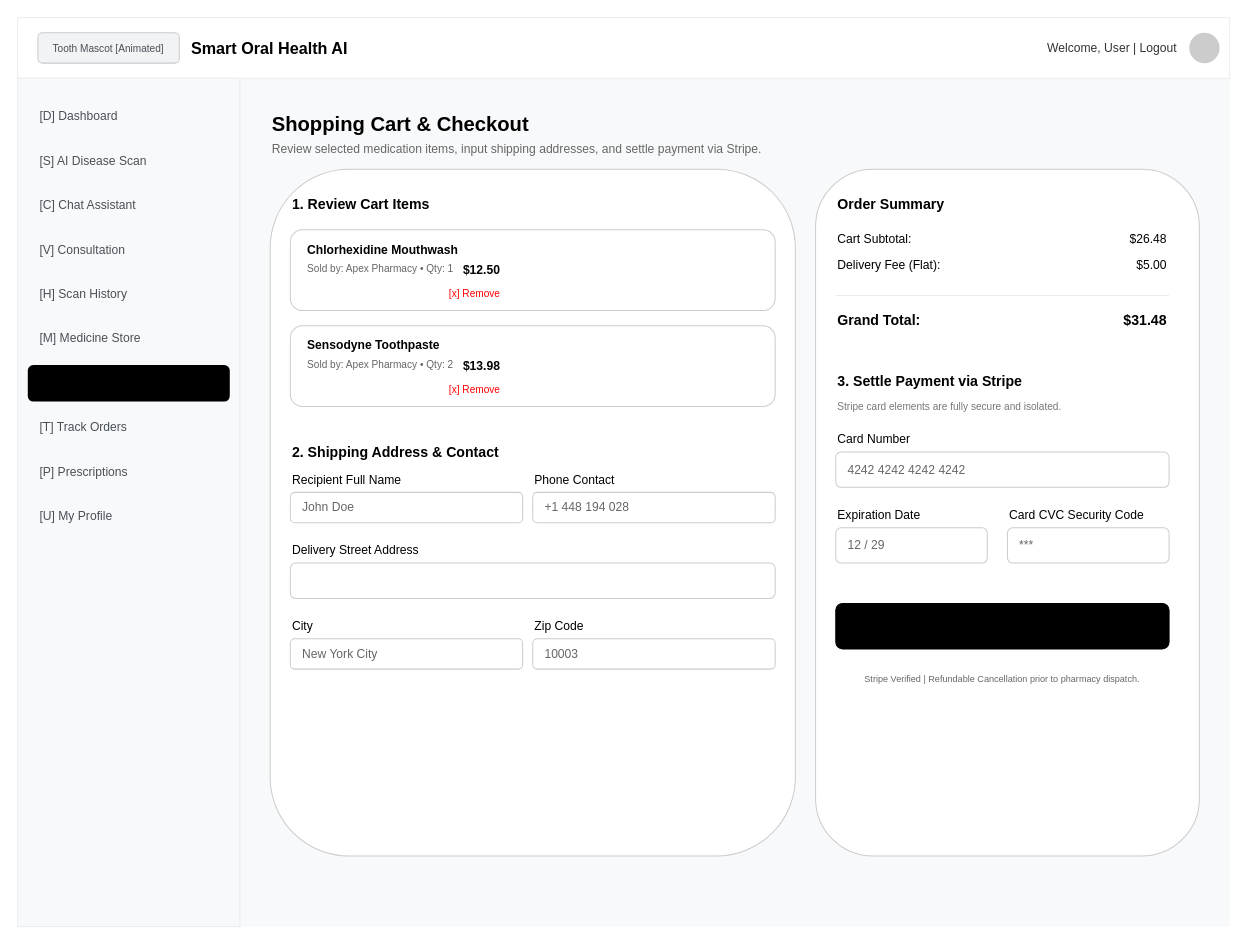
Image size: 1247x944. Some labels were removed from this diagram. Each missing label, with the box of its shape:
72 Broadway, New York, NY: (289, 562, 775, 598)
[O] Shopping Cart: (27, 365, 229, 401)
Pay & Place Order ($31.48): (835, 602, 1169, 649)
